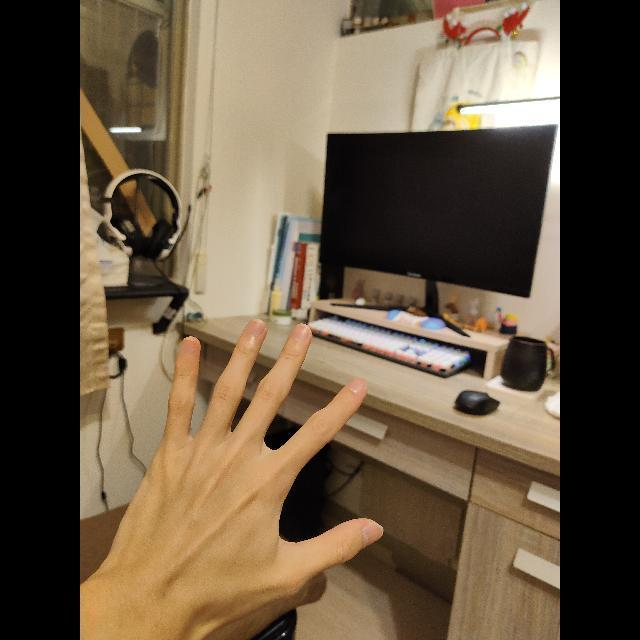bare_hand: (106, 316, 385, 617)
